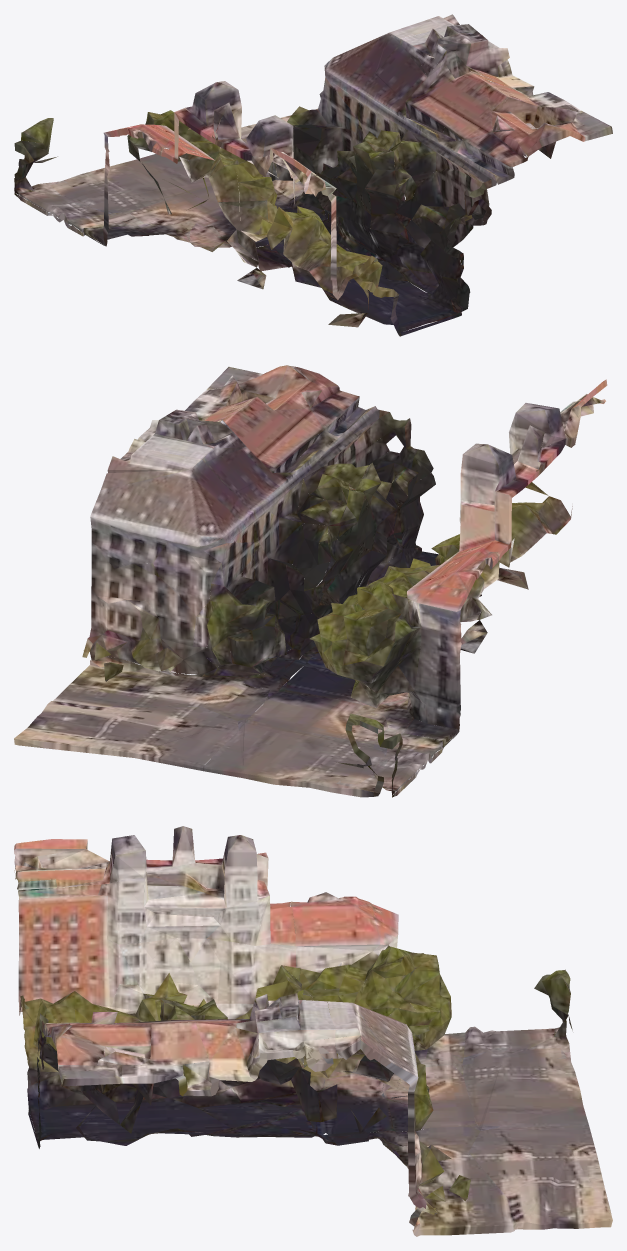
The picture shows the model from 3 angles, top to bottom: view 1: azimuth 30°, elevation 25°; view 2: azimuth 150°, elevation 25°; view 3: azimuth 270°, elevation 25°; orthographic projection. The views are drawn at different scales.
Visible parts, largest first — view 1: Mesh_0; view 2: Mesh_0; view 3: Mesh_0.
Part boxes in pixels (x1=…): Mesh_0: x1=14, y1=14, x2=612, y2=336; Mesh_0: x1=14, y1=365, x2=607, y2=797; Mesh_0: x1=14, y1=826, x2=612, y2=1236.
Bounding box in the file's own units: 66.59 × 37.75 × 82.58.
Materials: 2 (2 with a texture image).
